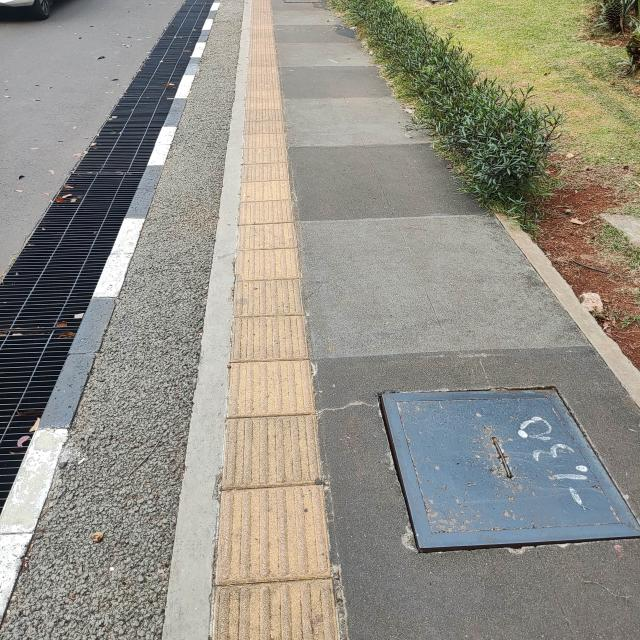lurus: (215, 4, 328, 640)
